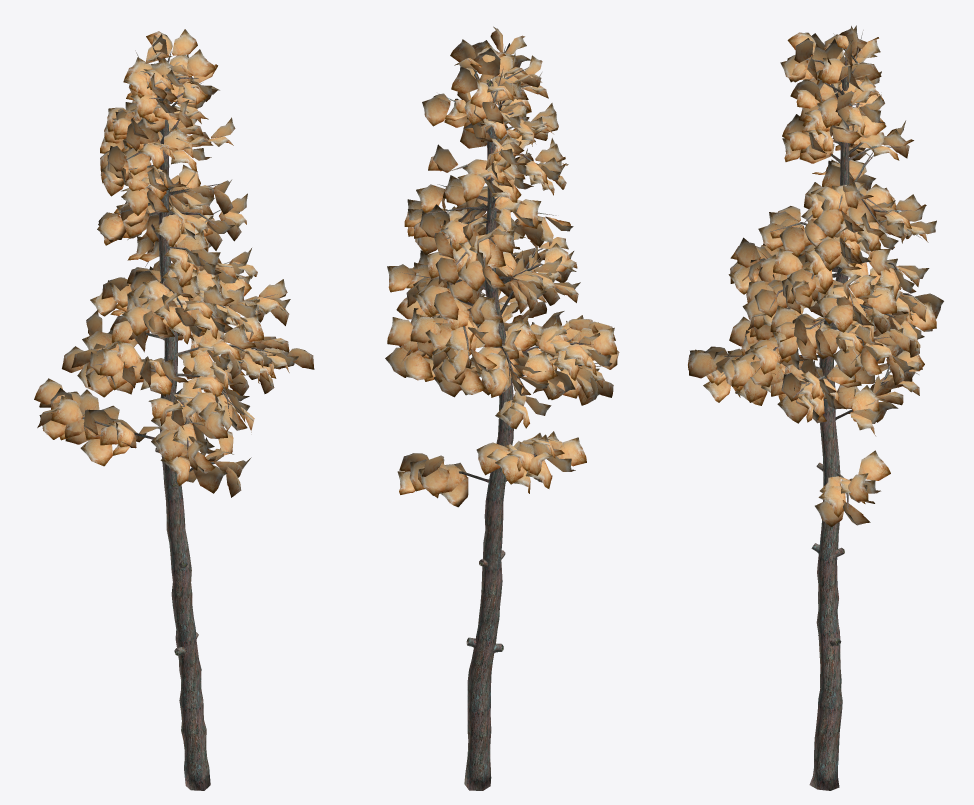
The model's file is defaultscotspine.glb.
The picture shows the model from 3 angles, left to right: view 1: azimuth 30°, elevation 25°; view 2: azimuth 150°, elevation 25°; view 3: azimuth 270°, elevation 25°; orthographic projection.
Parts seen in each view (by area): view 1: DefaultScotsPine; view 2: DefaultScotsPine; view 3: DefaultScotsPine.
Part boxes in pixels (x1=…): DefaultScotsPine: x1=34, y1=29, x2=314, y2=790; DefaultScotsPine: x1=385, y1=26, x2=619, y2=790; DefaultScotsPine: x1=688, y1=25, x2=943, y2=790.
Bounding box in the file's own units: 10.52 × 29.36 × 10.4.
Materials: 4 (4 with a texture image).
